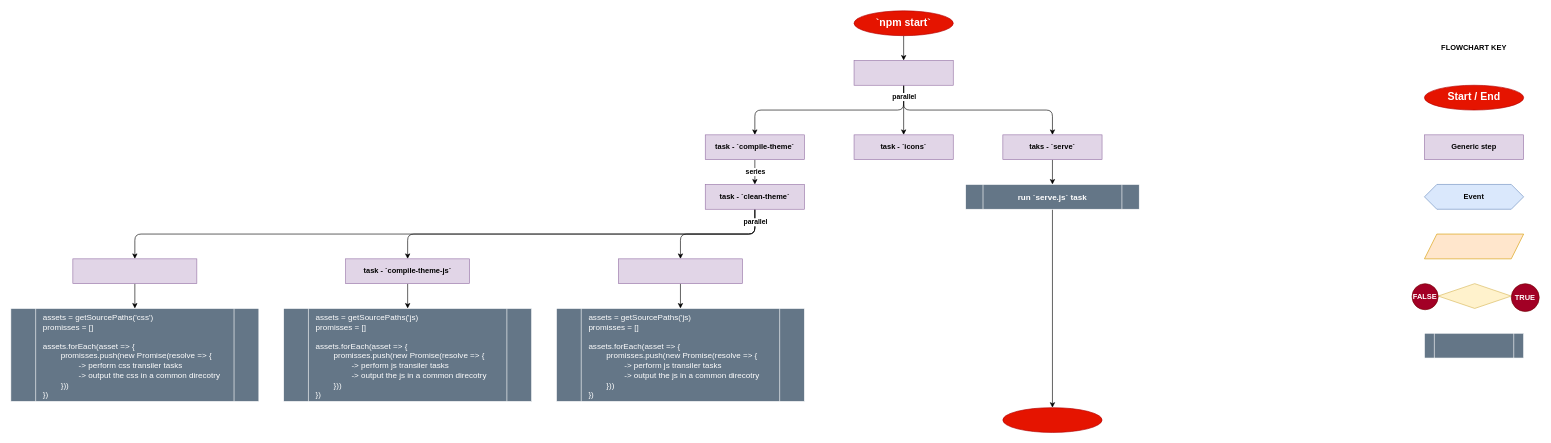
Some shapes in this 1551 by 443 pixel diagram are drawn without their labels. The shapes that lost their labels are listed below. From the top down, each one's box as (x1, y1, x2, y2) in pixels, then its label:
(853, 60, 953, 85): `gulp develop`
(1424, 233, 1524, 259): Input OR Output
(72, 258, 197, 284): task - `compile-theme-css`
(618, 258, 742, 284): task - `minify-theme-img`
(1438, 283, 1511, 308): Decision
(1424, 333, 1524, 358): subroutine / subprogram
(1002, 407, 1102, 432): START `server.js`
